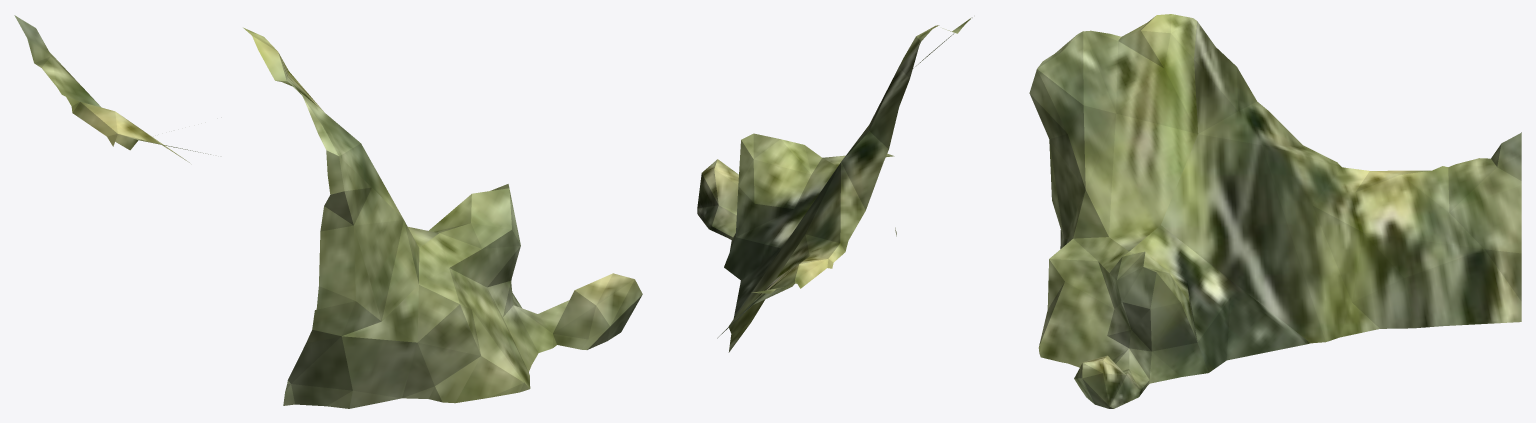
3 views of the same model, side by side, from view 1: azimuth 30°, elevation 25°; view 2: azimuth 150°, elevation 25°; view 3: azimuth 270°, elevation 25° (orthographic). The views are drawn at different scales.
Bounding box in the file's own units: 2.16 × 2.1 × 3.5.
1 material, 1 textured.
